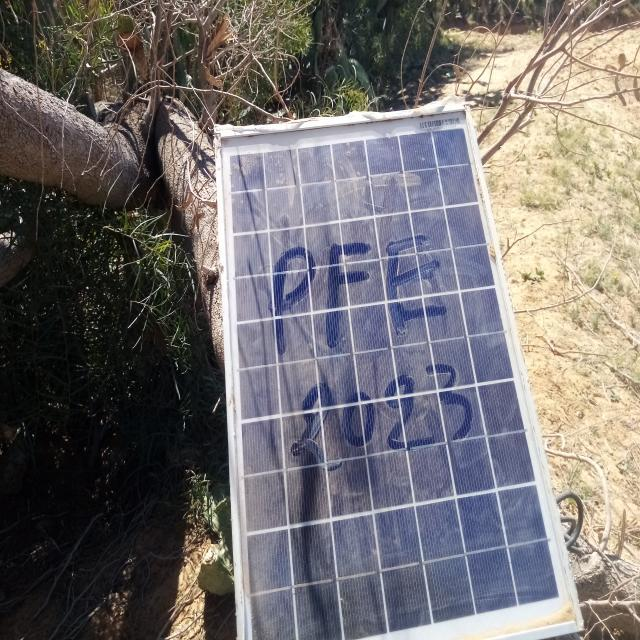faulty: (217, 106, 582, 640)
